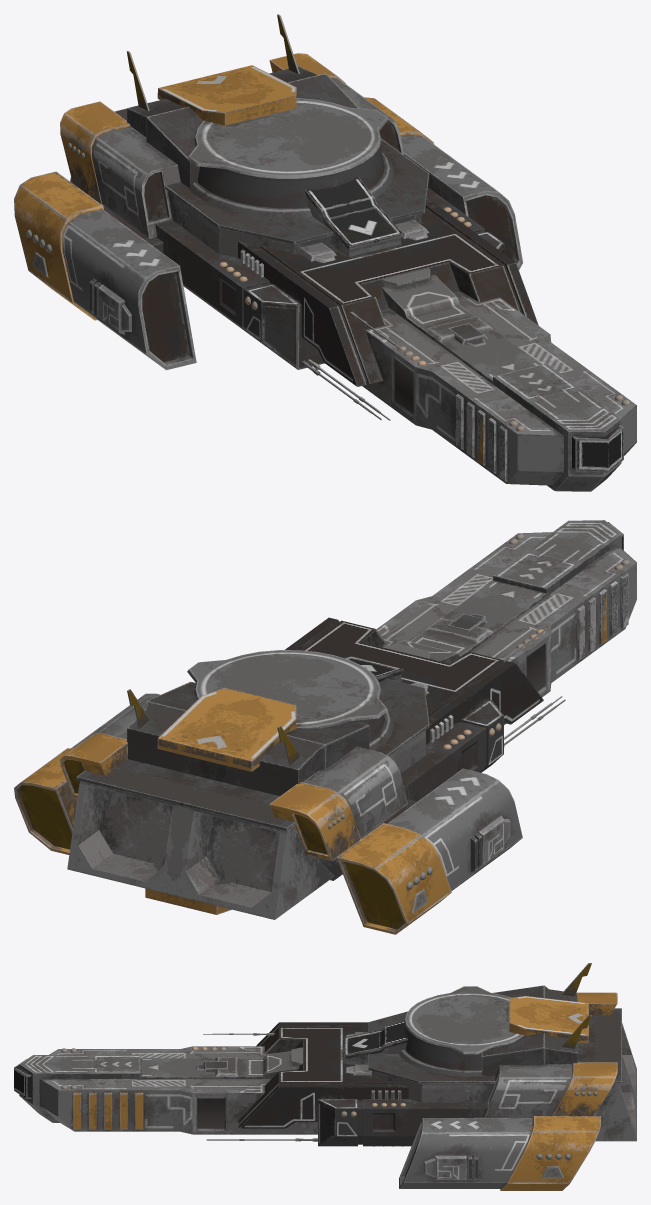
Rendered from qs_insurgent.glb.
3 renders of one model, top to bottom at view 1: azimuth 30°, elevation 25°; view 2: azimuth 150°, elevation 25°; view 3: azimuth 270°, elevation 25°, orthographic. The views are drawn at different scales.
Visible parts, largest first — view 1: Insurgent; view 2: Insurgent; view 3: Insurgent.
Boxes of the visible parts, <box> form: Insurgent: <box>14,14,636,491</box>; Insurgent: <box>14,520,636,934</box>; Insurgent: <box>14,963,636,1190</box>.
Bounding box in the file's own units: 5.56 × 2.87 × 10.95.
1 material, 1 textured.
